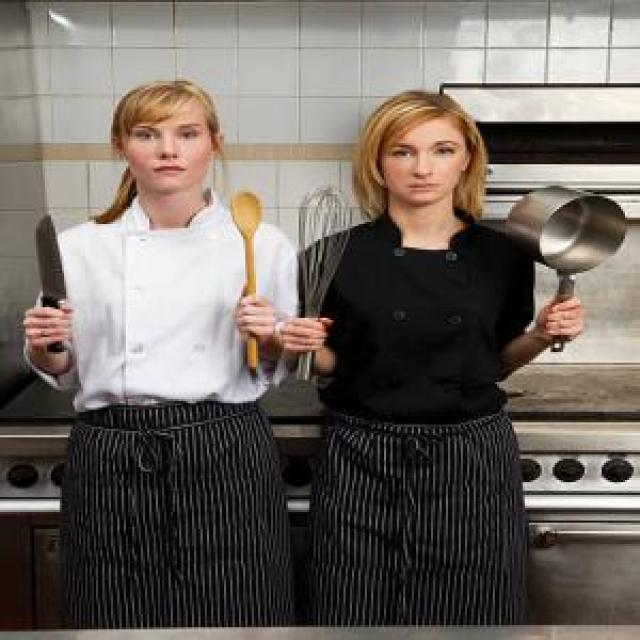knife: (36, 214, 81, 374)
